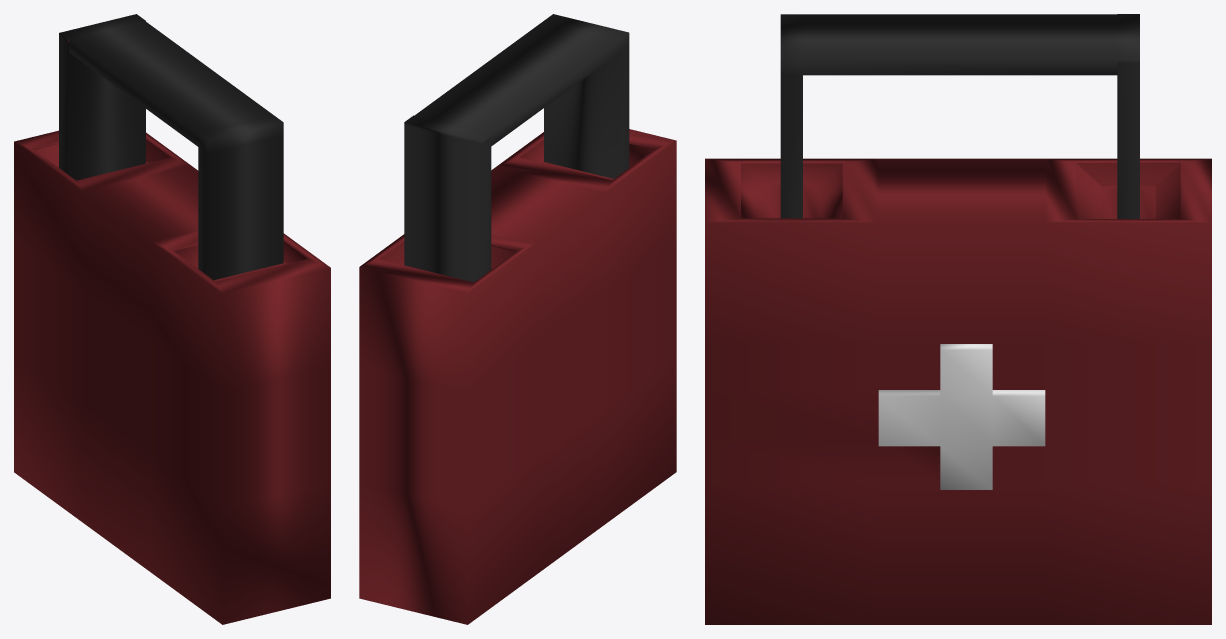
The model's file is botiquin.fbx.
3 views of the same model, side by side, from view 1: azimuth 30°, elevation 25°; view 2: azimuth 150°, elevation 25°; view 3: azimuth 270°, elevation 25° (orthographic). The views are drawn at different scales.
Visible parts, largest first — view 1: Cube, Cube.002; view 2: Cube, Cube.002; view 3: Cube, Cube.002, Cube.001.
Part boxes in pixels (x1,y1,x2,y2): Cube: (14,21,330,624); Cube.002: (59,14,283,279); Cube: (359,129,676,624); Cube.002: (404,14,629,282); Cube: (705,158,1211,624); Cube.002: (780,14,1139,218); Cube.001: (878,344,1045,489).
Size of the model in its own units: 49.71 by 183 by 151.
